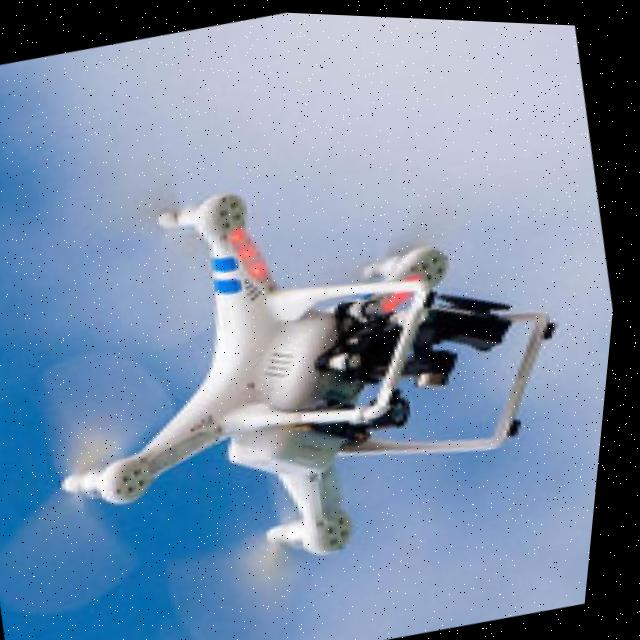drones: (0, 49, 636, 640)
